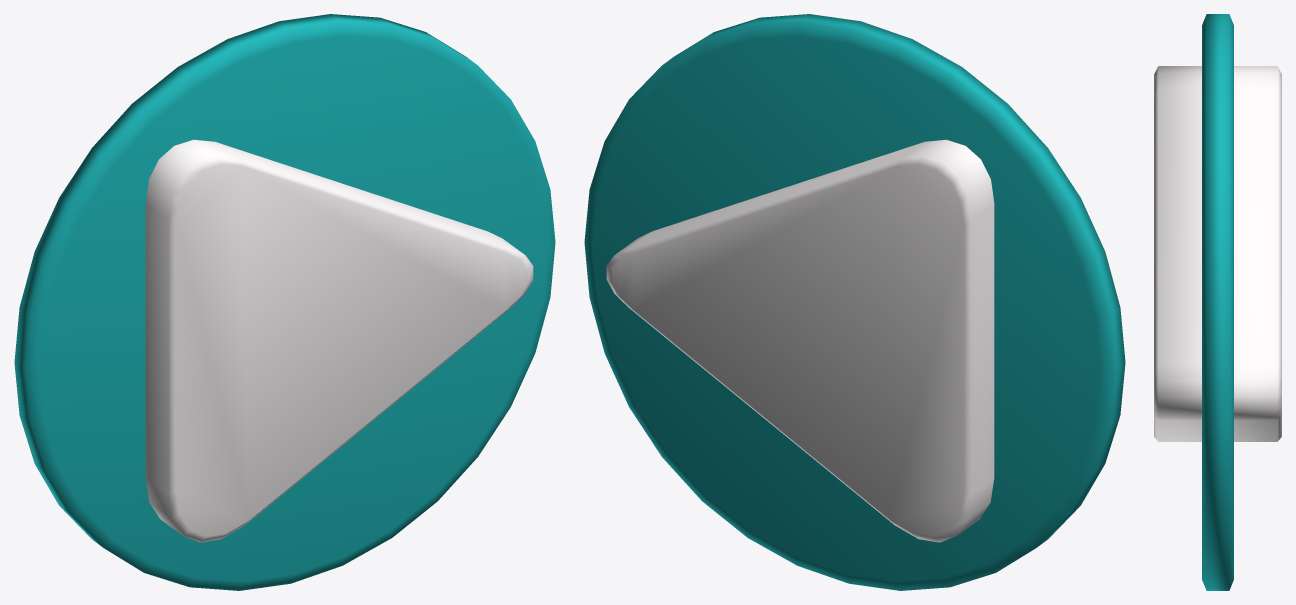
Rendered from Play.gltf.
3 renders of one model, left to right at view 1: azimuth 30°, elevation 25°; view 2: azimuth 150°, elevation 25°; view 3: azimuth 270°, elevation 25°, orthographic. The views are drawn at different scales.
Parts seen in each view (by area): view 1: Play; view 2: Play; view 3: Play.
Part boxes in pixels (<box>): Play: <box>14,14,555,590</box>; Play: <box>584,14,1125,590</box>; Play: <box>1154,14,1281,590</box>.
Size of the model in its own units: 2.53 by 2.53 by 0.5601.
